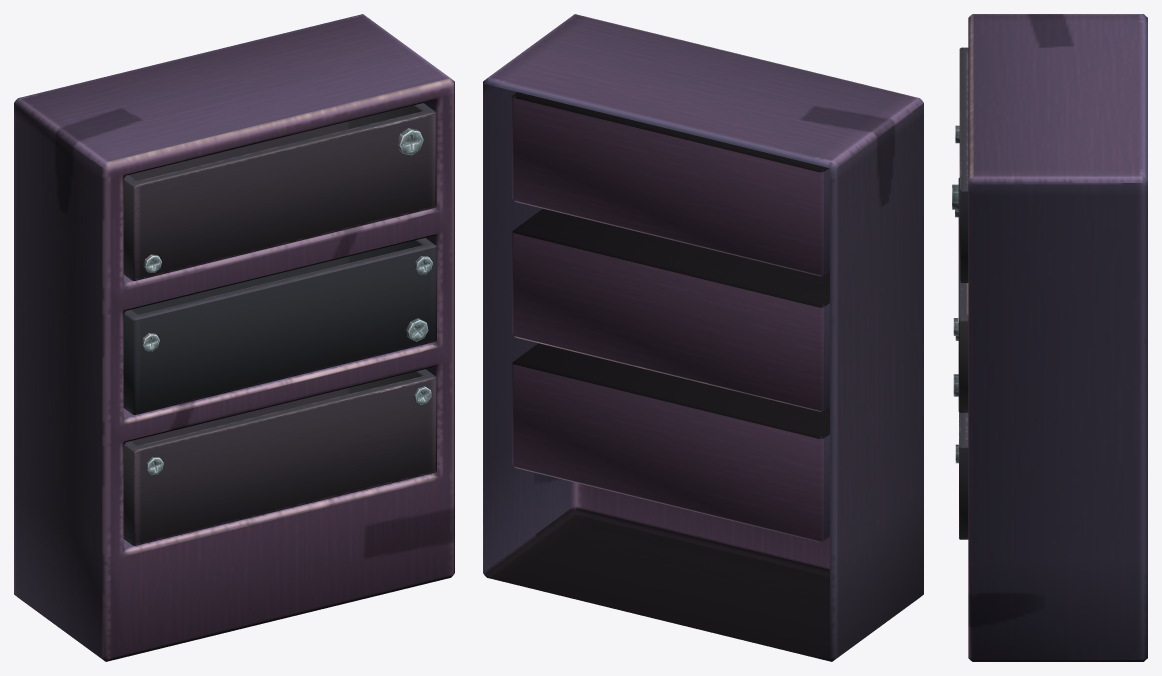
Rendered from Wardrobe_menu.fbx.
3 renders of one model, left to right at view 1: azimuth 30°, elevation 25°; view 2: azimuth 150°, elevation 25°; view 3: azimuth 270°, elevation 25°, orthographic. The views are drawn at different scales.
Parts seen in each view (by area): view 1: Wardrobe_menu, Drawer_1, Drawer_2, Drawer_3; view 2: Wardrobe_menu; view 3: Wardrobe_menu, Drawer_1, Drawer_2, Drawer_3.
Part boxes in pixels (x1,y1,x2,y2): Wardrobe_menu: (14,14,454,661); Drawer_1: (123,103,436,280); Drawer_2: (123,238,436,414); Drawer_3: (123,369,436,545); Wardrobe_menu: (483,14,923,661); Wardrobe_menu: (968,14,1147,661); Drawer_1: (952,47,968,282); Drawer_2: (953,178,968,412); Drawer_3: (955,323,968,539).
Size of the model in its own units: 349 by 472 by 173.
